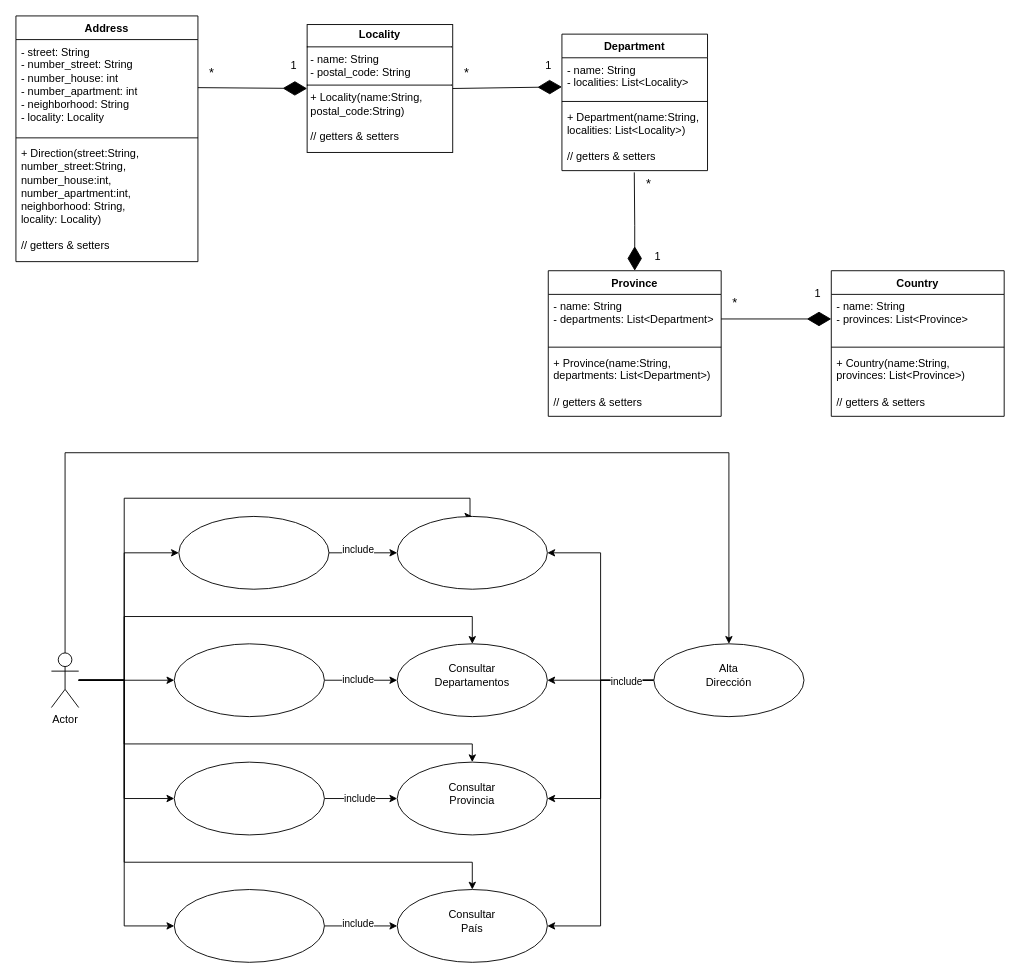
The diagram is 1020 pixels wide and 978 high, and some of its shapes have lost their labels. Each missing label, with the centre of its shape:
"Alta Baja Modificación Departamento" goes at (x=248, y=680).
"Alta Baja Modificación Localidad" goes at (x=253, y=552).
"Alta Baja Modificación País" goes at (x=248, y=925).
"Alta Baja Modificación Provincia" goes at (x=248, y=798).
"Consultar Localidad" goes at (x=471, y=552).
